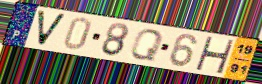0: (62, 16, 93, 52)
6: (167, 33, 200, 68)
8: (99, 22, 131, 58)
H: (193, 35, 236, 75)
Q: (128, 28, 165, 63)
V: (36, 8, 69, 48)
